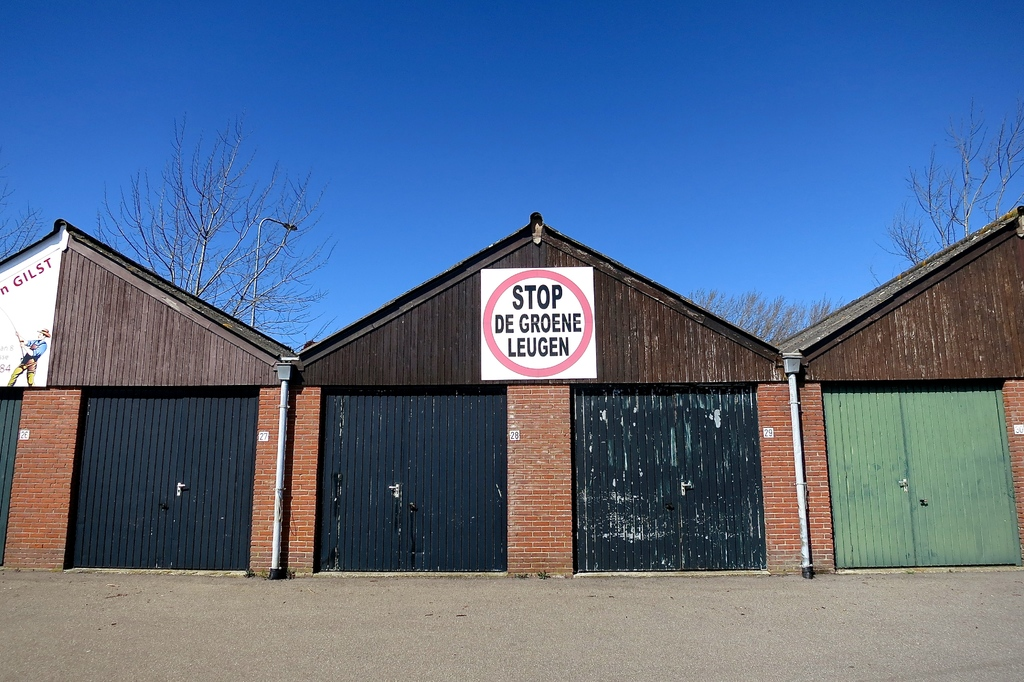door: (900, 386, 1007, 563), (575, 390, 679, 559), (327, 396, 418, 579), (418, 397, 510, 573), (166, 393, 253, 565), (826, 387, 910, 558), (78, 404, 161, 571), (675, 393, 754, 567)
